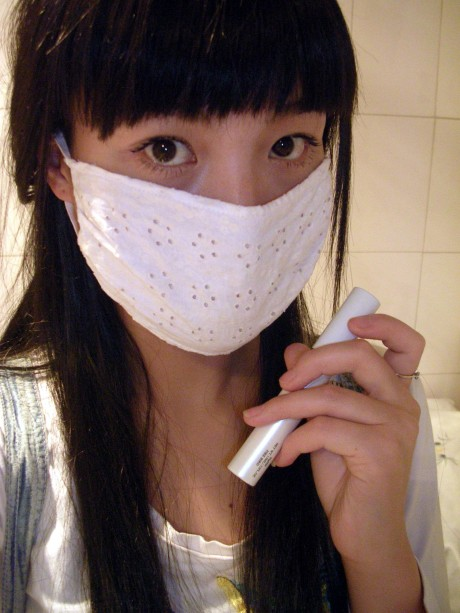face_mask: (74, 112, 332, 356)
